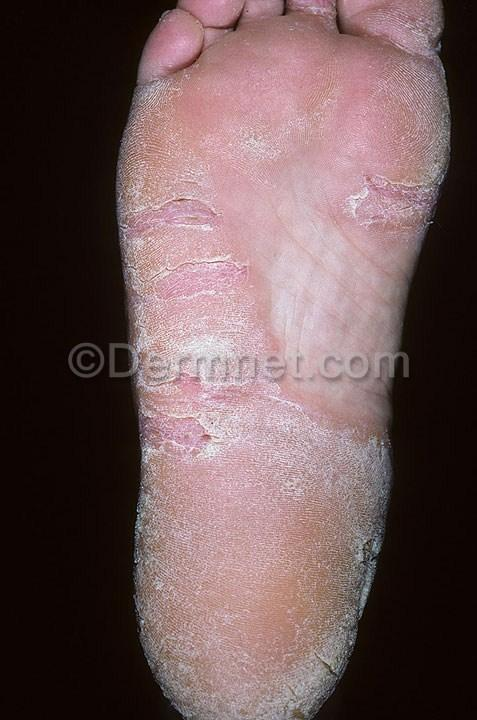Eczema: (122, 75, 249, 339), (252, 372, 399, 551), (283, 0, 477, 68), (129, 380, 245, 489), (325, 136, 438, 243), (133, 610, 243, 719), (288, 575, 378, 691), (133, 492, 207, 601)
